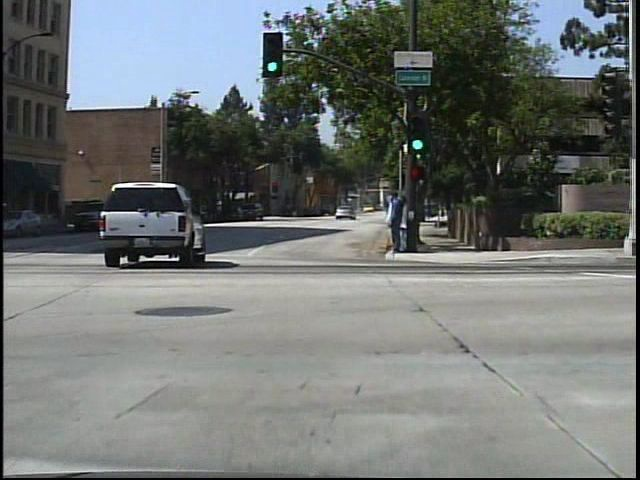person: (384, 187, 406, 256), (384, 193, 402, 254)
